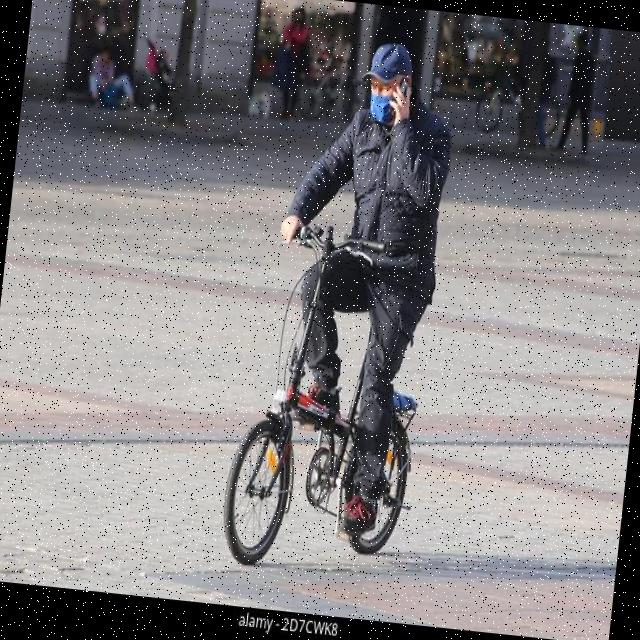Using mobile: (322, 29, 445, 160)
